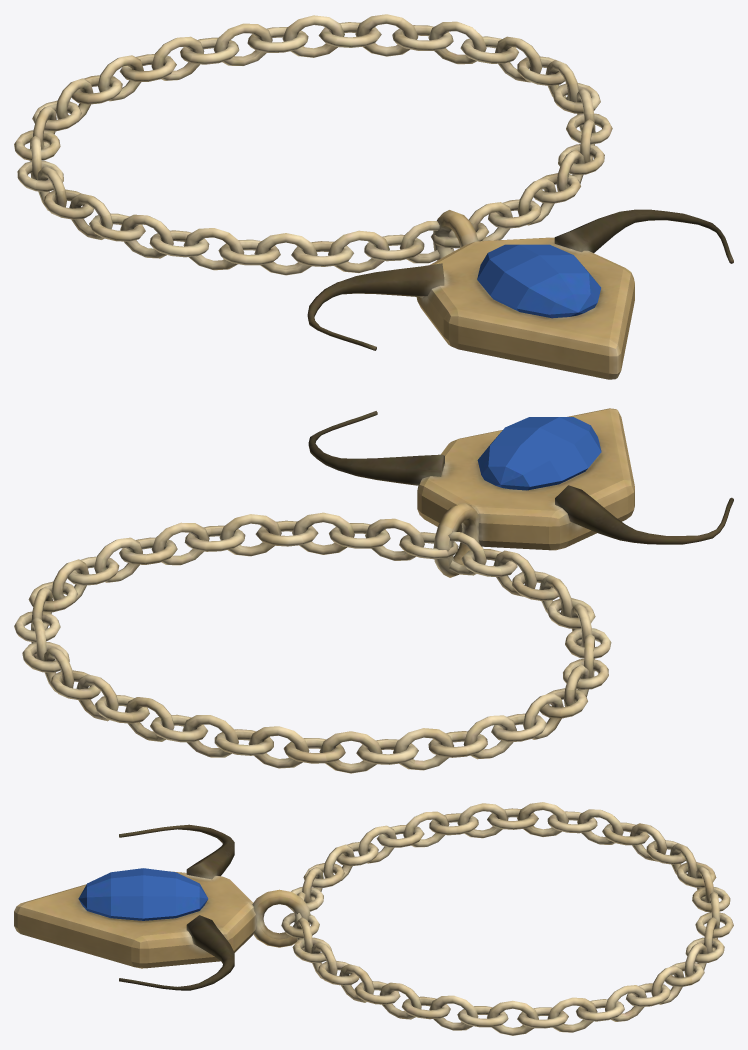
The model's file is amulet.glb.
3 renders of one model, top to bottom at view 1: azimuth 30°, elevation 25°; view 2: azimuth 150°, elevation 25°; view 3: azimuth 270°, elevation 25°, orthographic. The views are drawn at different scales.
Parts seen in each view (by area): view 1: amulet; view 2: amulet; view 3: amulet.
Part boxes in pixels (x1=…): amulet: x1=14, y1=14, x2=733, y2=379; amulet: x1=14, y1=408, x2=733, y2=773; amulet: x1=14, y1=802, x2=733, y2=1035.
Bounding box in the file's own units: 0.2543 × 0.04 × 0.3599.
Materials: 1 (1 with a texture image).
